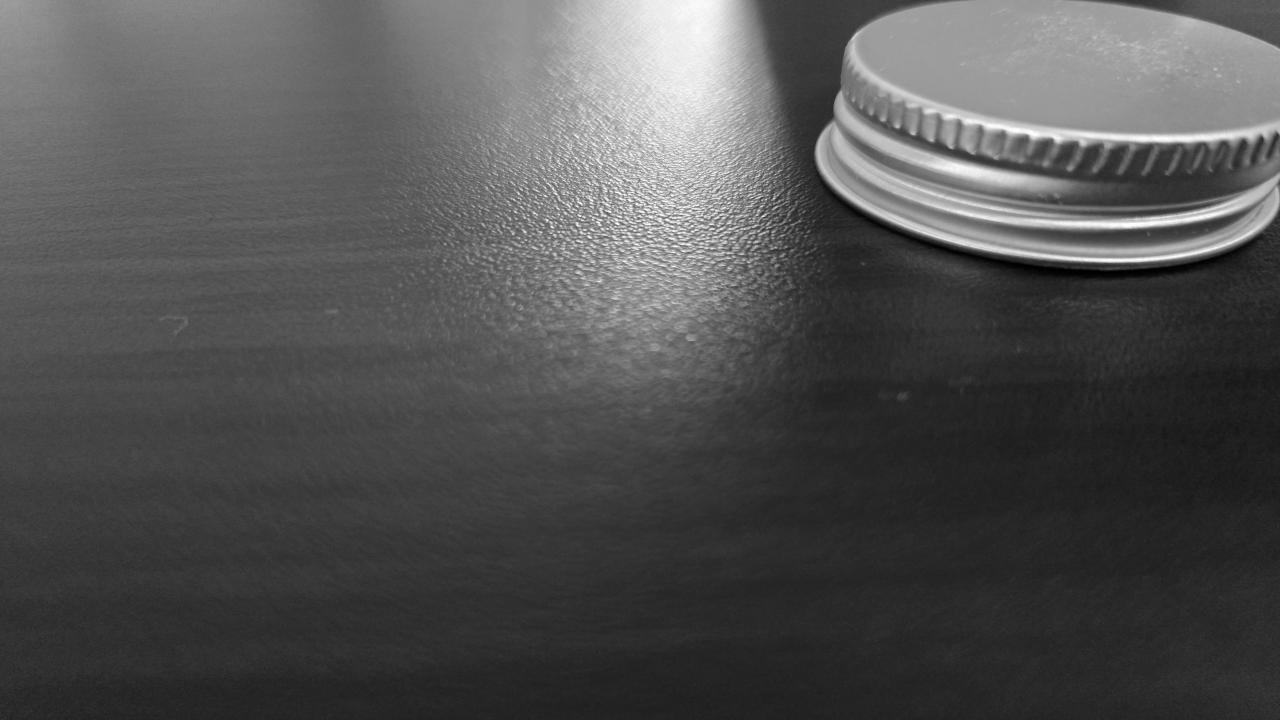bottle_cap: (812, 2, 1278, 268)
